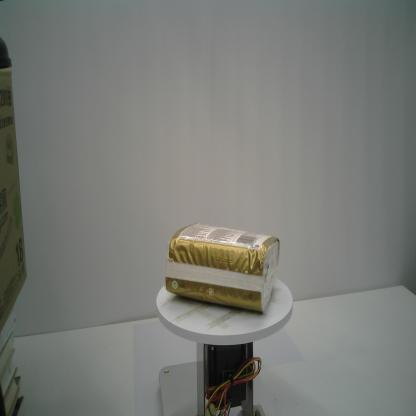Tissue: (165, 223, 280, 314)
